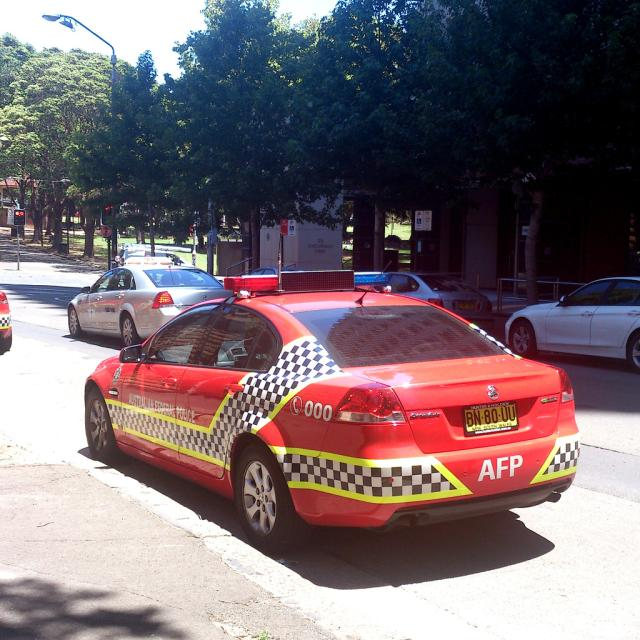car: (60, 280, 597, 548)
